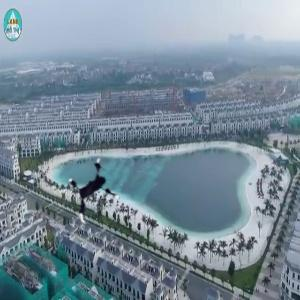drone: (58, 152, 139, 233)
